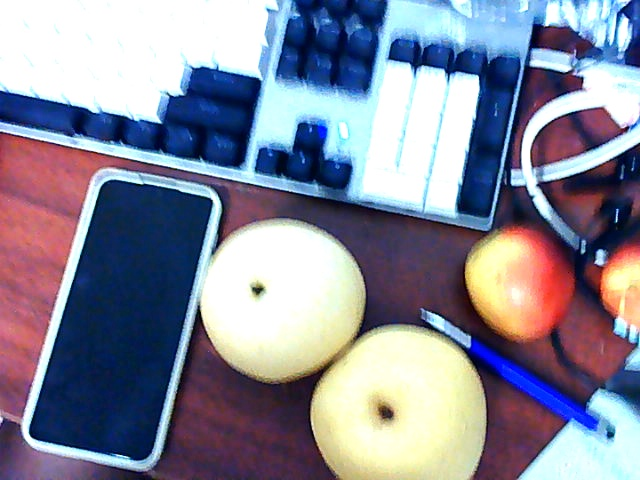peach: (470, 227, 578, 343)
pear: (316, 336, 495, 480), (200, 225, 370, 373)
